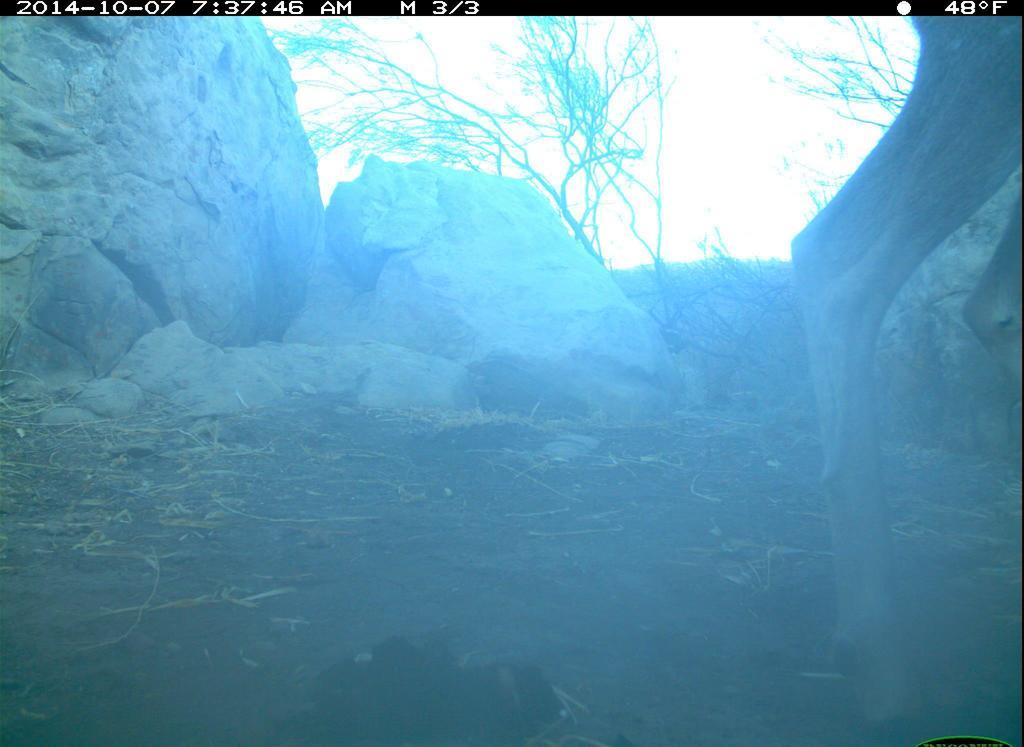deer: (762, 12, 1013, 743)
